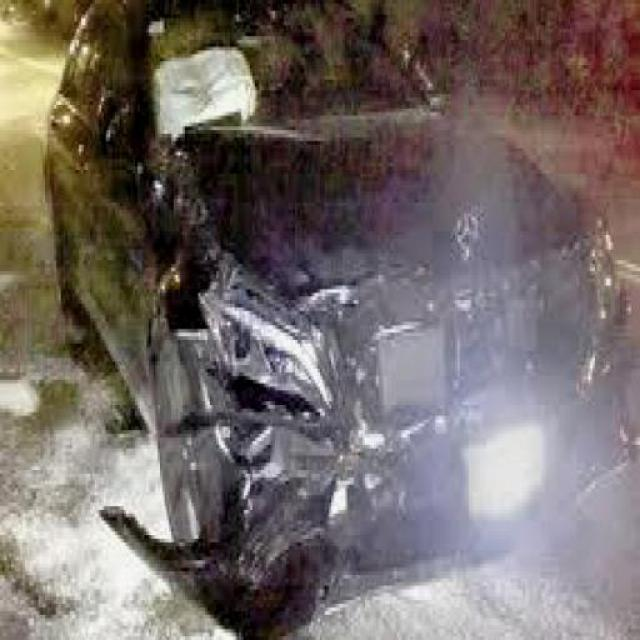Car-Damage: (104, 119, 636, 635)
